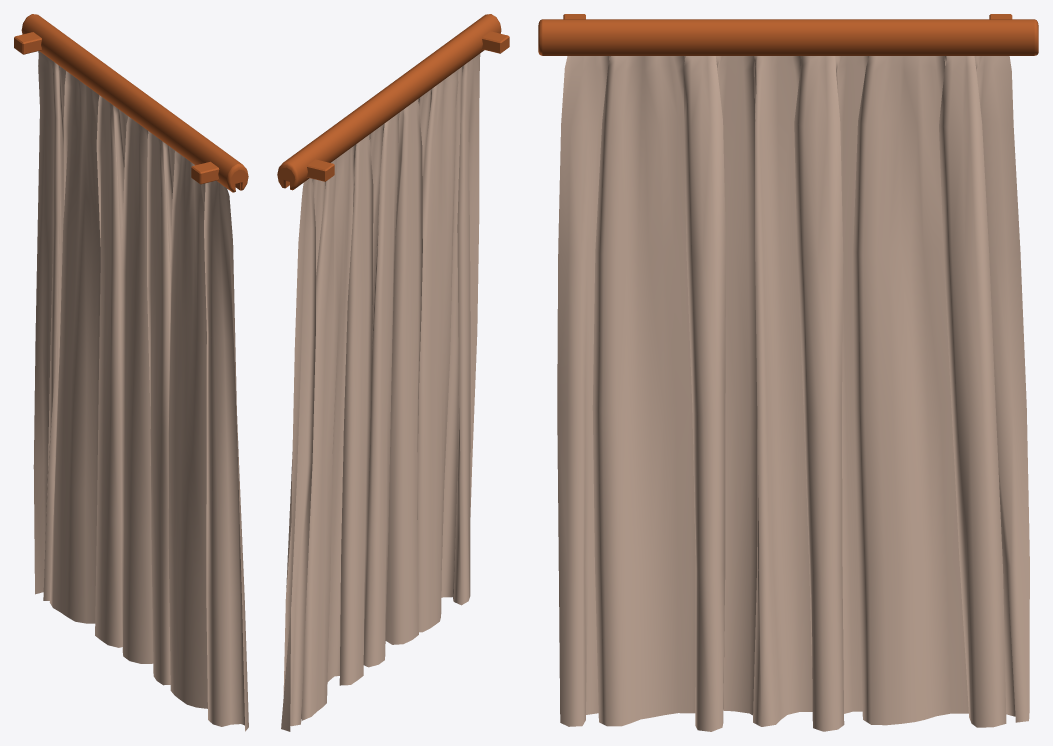
Rendered from Curtain.glb.
3 renders of one model, left to right at view 1: azimuth 30°, elevation 25°; view 2: azimuth 150°, elevation 25°; view 3: azimuth 270°, elevation 25°, orthographic. The views are drawn at different scales.
Parts seen in each view (by area): view 1: Curtains; view 2: Curtains; view 3: Curtains.
Boxes of the visible parts, <box> form: Curtains: <box>14,14,248,731</box>; Curtains: <box>277,14,509,731</box>; Curtains: <box>538,14,1038,731</box>.
Bounding box in the file's own units: 0.3184 × 2.7 × 1.76.
2 materials, 1 textured.
